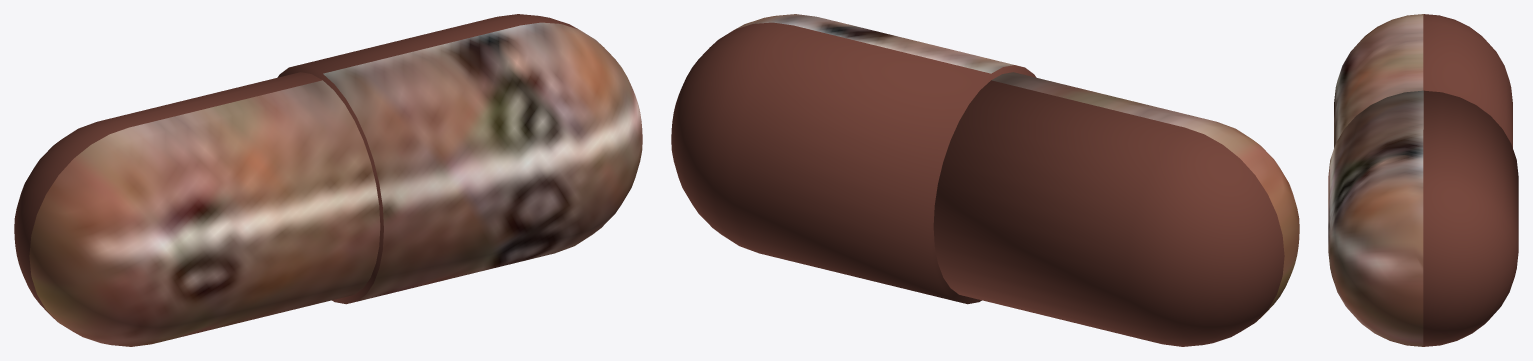
The model's file is 20140327GOPHDRGPT32578.fbx.
3 renders of one model, left to right at view 1: azimuth 30°, elevation 25°; view 2: azimuth 150°, elevation 25°; view 3: azimuth 270°, elevation 25°, orthographic. The views are drawn at different scales.
Parts seen in each view (by area): view 1: 球體.007; view 2: 球體.007; view 3: 球體.007.
Boxes of the visible parts, x1,y1,x2,y2 form: 球體.007: (14, 14, 642, 346); 球體.007: (671, 14, 1299, 346); 球體.007: (1328, 14, 1518, 346).
Size of the model in its own units: 1.61 by 0.5731 by 0.5731.
